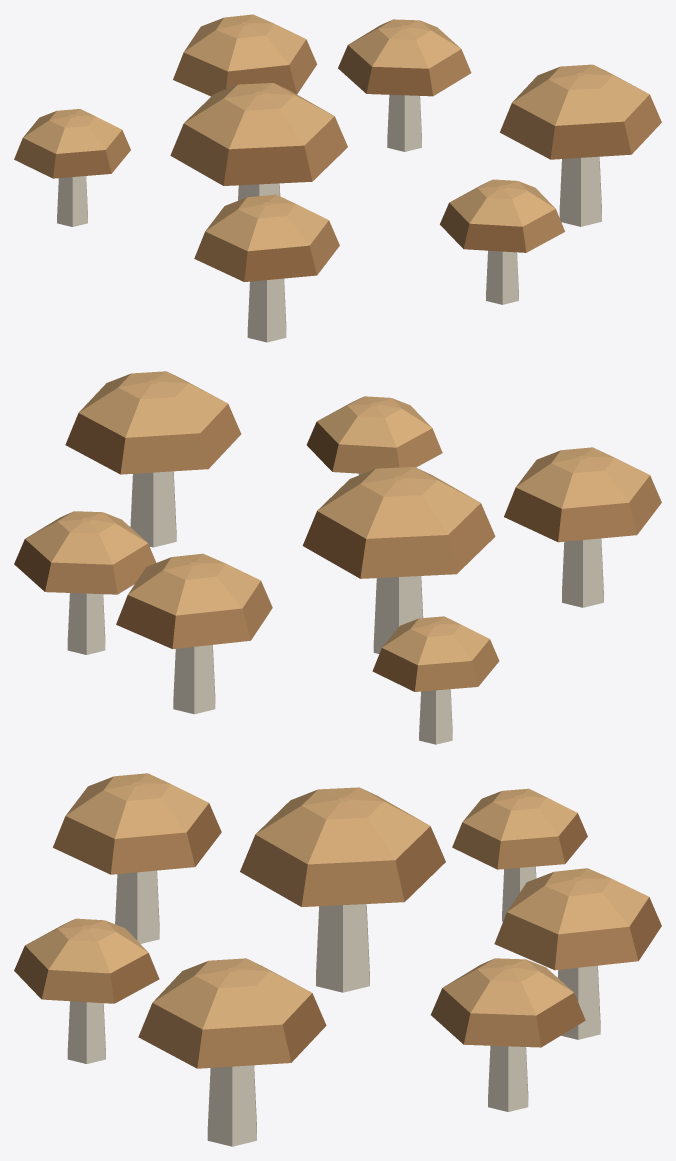
File: mushroom-3.glb
3 renders of one model, top to bottom at view 1: azimuth 30°, elevation 25°; view 2: azimuth 150°, elevation 25°; view 3: azimuth 270°, elevation 25°, orthographic. The views are drawn at different scales.
Parts seen in each view (by area): view 1: mushroom-3; view 2: mushroom-3; view 3: mushroom-3.
Boxes of the visible parts, x1,y1,x2,y2 form: mushroom-3: (14,14,661,342); mushroom-3: (14,371,661,744); mushroom-3: (14,773,661,1146).
Size of the model in its own units: 0.6184 by 0.1836 by 0.5993.
Materials: 1 (1 with a texture image).
